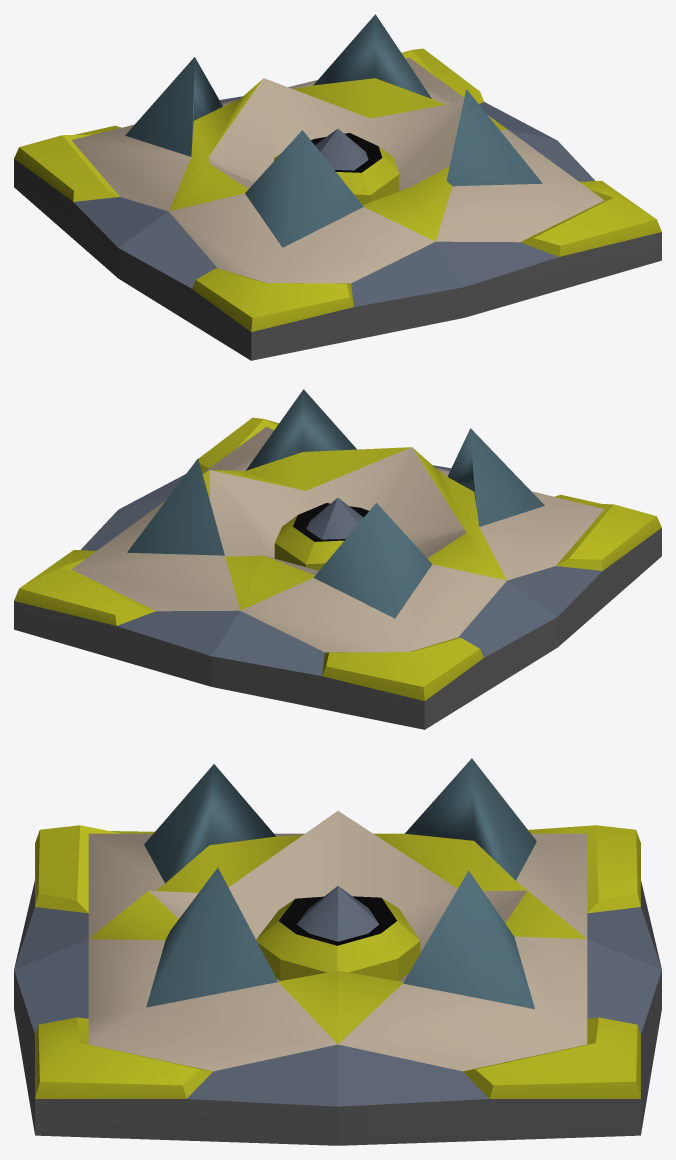
The model's file is BeGoal.fbx.
3 renders of one model, top to bottom at view 1: azimuth 30°, elevation 25°; view 2: azimuth 150°, elevation 25°; view 3: azimuth 270°, elevation 25°, orthographic. The views are drawn at different scales.
Visible parts, largest first — view 1: pCube1; view 2: pCube1; view 3: pCube1.
Boxes of the visible parts, x1,y1,x2,y2 form: pCube1: (14,14,661,360); pCube1: (14,389,661,729); pCube1: (14,758,661,1145).
Bounding box in the file's own units: 3.21 × 1.06 × 3.21.
